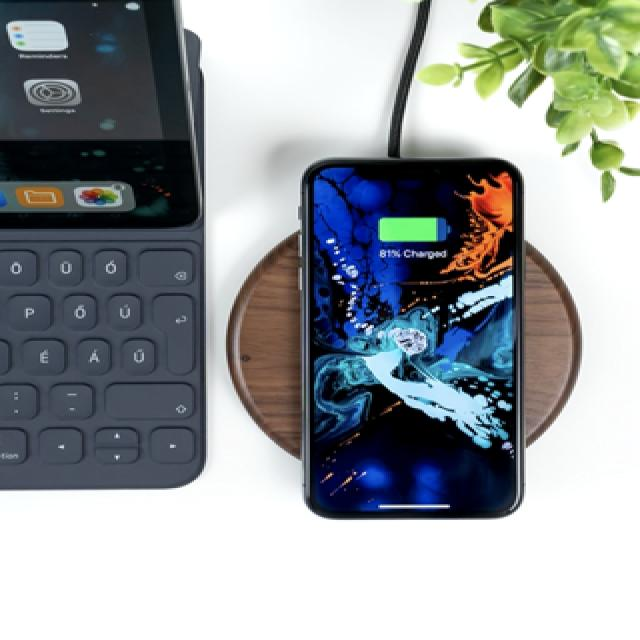cellphone: (0, 0, 206, 490), (298, 155, 524, 520)
